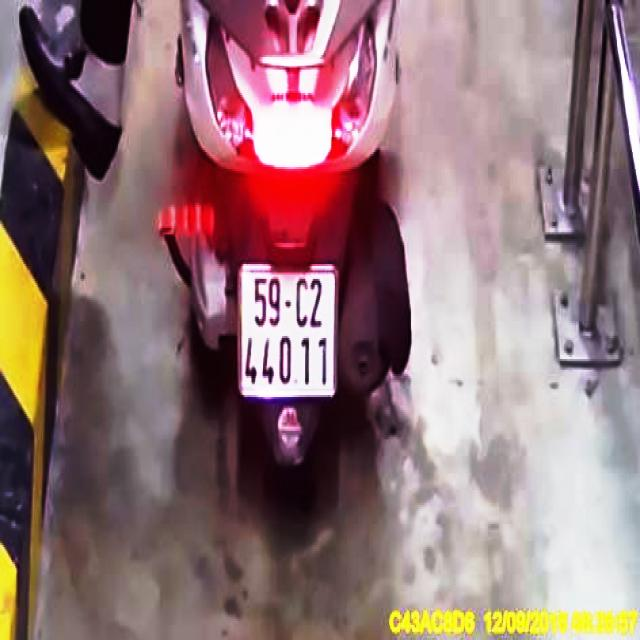license_plate: (240, 263, 338, 398)
